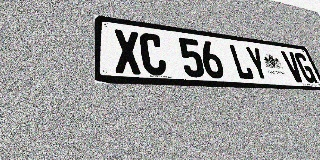5: (178, 37, 206, 78)
6: (198, 40, 226, 79)
C: (139, 32, 168, 76)
G: (293, 52, 318, 83)
L: (228, 44, 255, 80)
V: (280, 51, 306, 83)
X: (113, 29, 142, 75)
Y: (244, 46, 271, 81)
